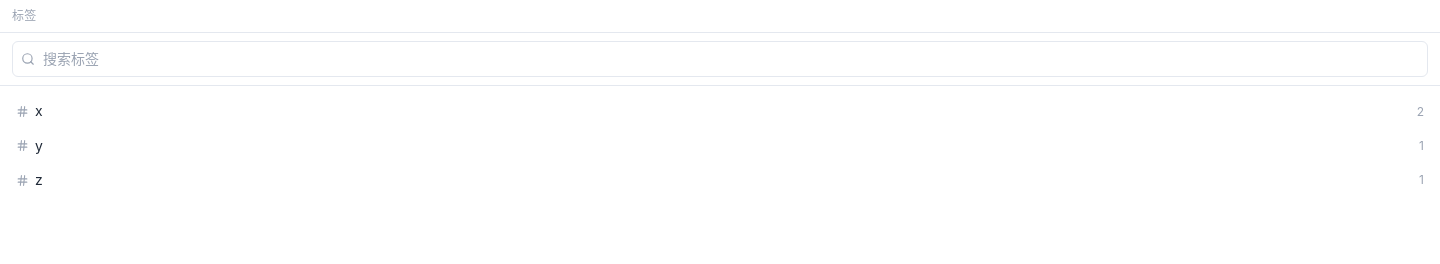
Scenario: TagIndex › 标签下加密笔记展示锁徽标
Click the text "x" at (39, 112), box [35,100,43,123]
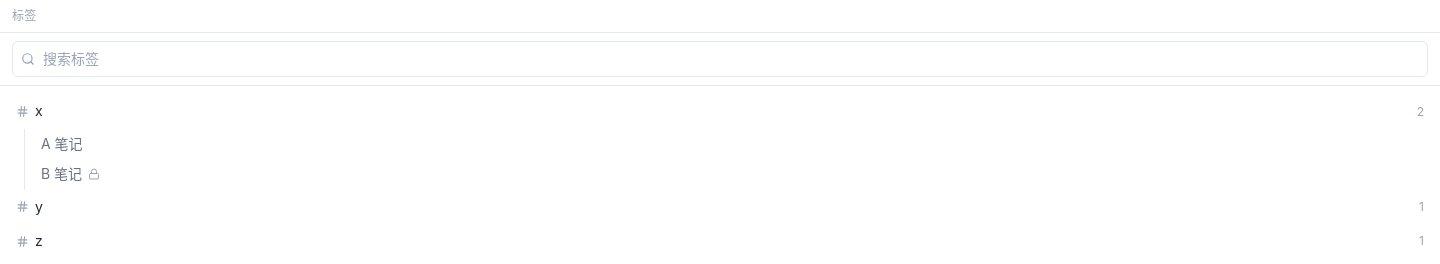
Check: the picture named "已加密" is shown, box [88,168,100,180]
